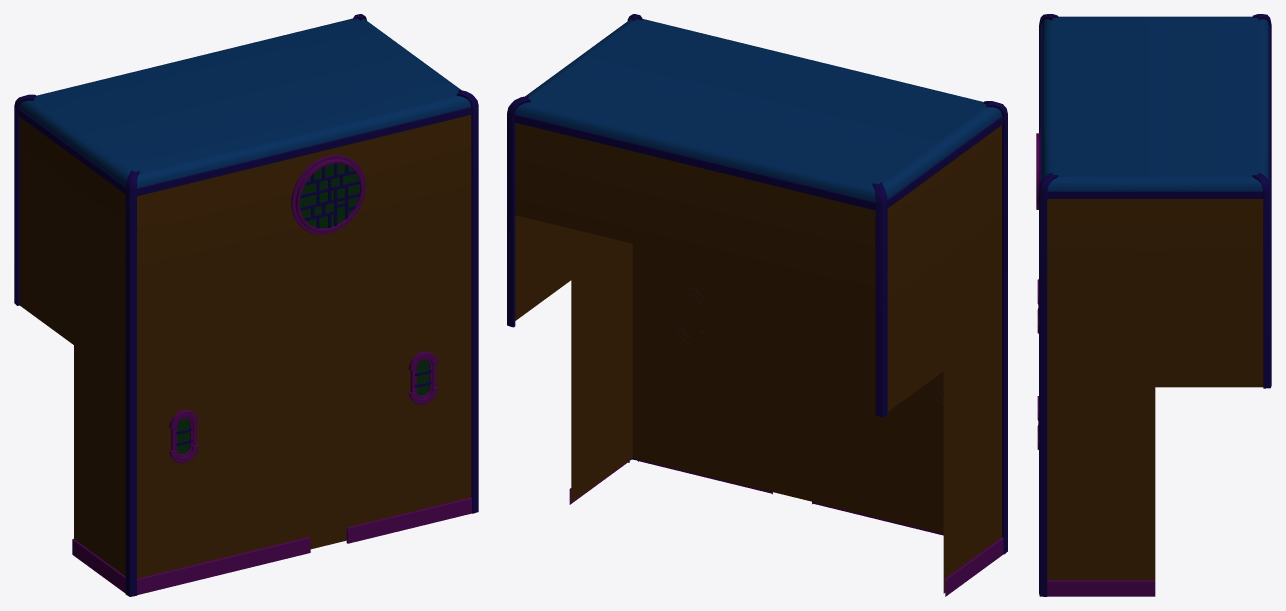
File: Building_Generic_04.FBX
3 views of the same model, side by side, from view 1: azimuth 30°, elevation 25°; view 2: azimuth 150°, elevation 25°; view 3: azimuth 270°, elevation 25° (orthographic). The views are drawn at different scales.
Visible parts, largest first — view 1: Building_Generic_04; view 2: Building_Generic_04; view 3: Building_Generic_04.
Part boxes in pixels (x1,y1,x2,y2): Building_Generic_04: (14, 14, 478, 596); Building_Generic_04: (507, 14, 1007, 596); Building_Generic_04: (1036, 14, 1271, 596).
Size of the model in its own units: 1420 by 1620 by 829.
